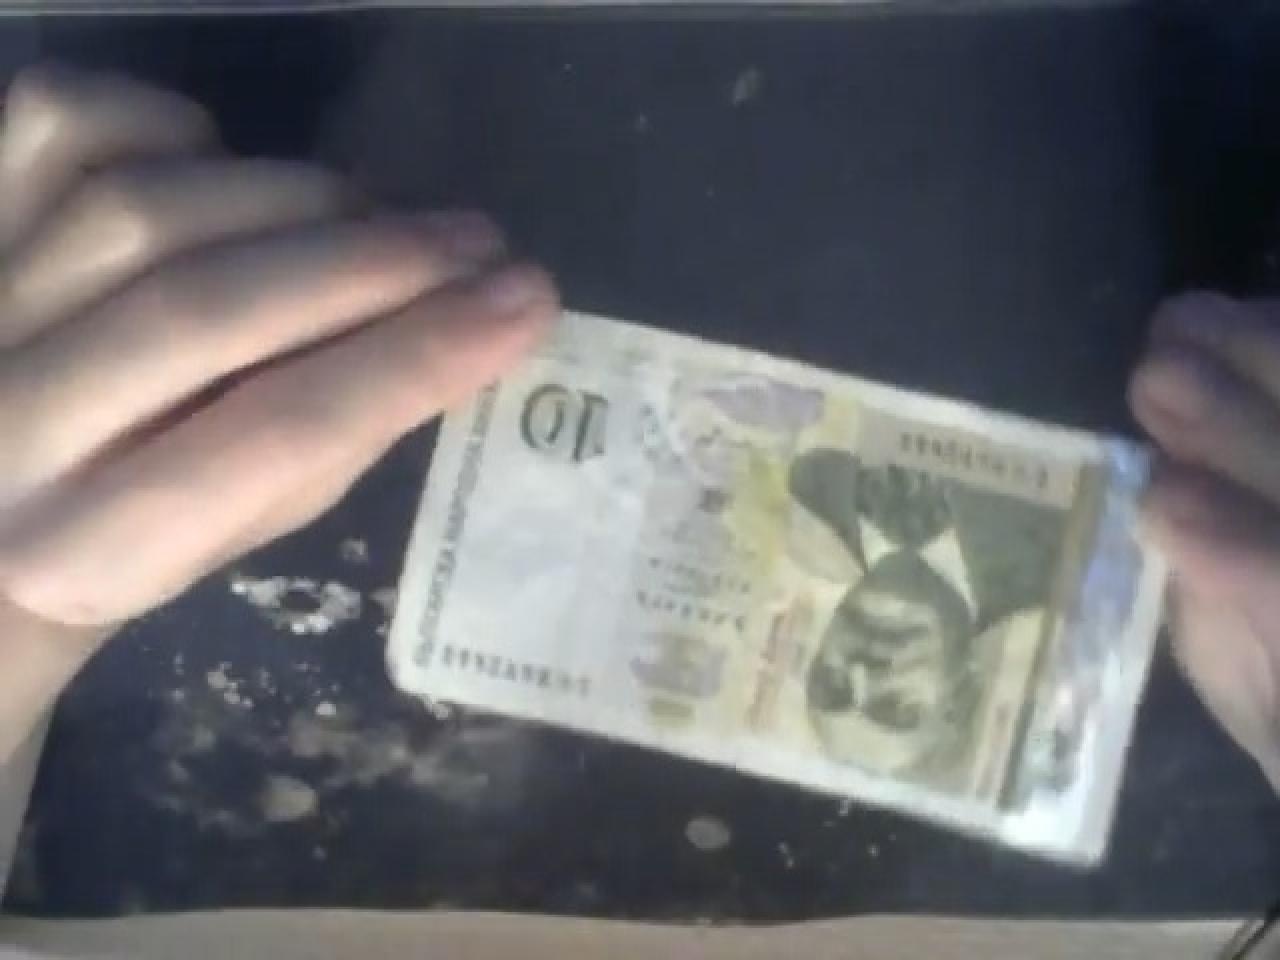10leva: (496, 362, 639, 470)
